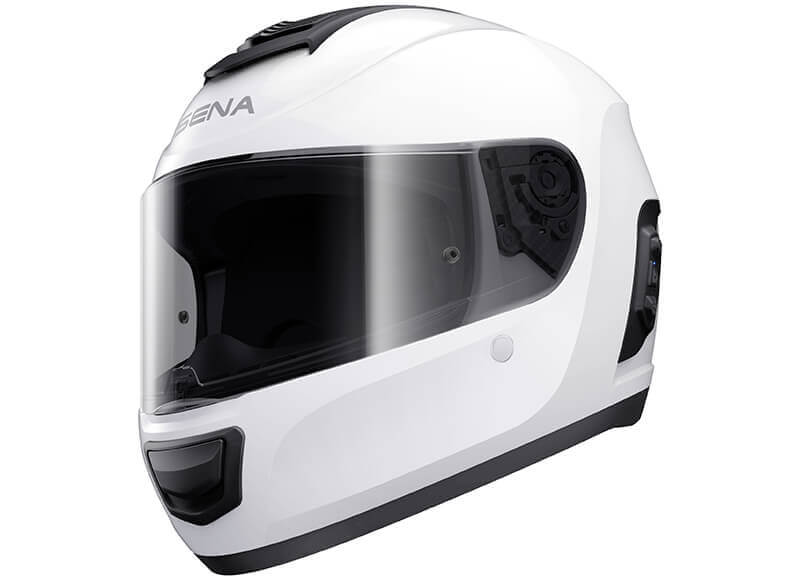with_helmet: (127, 4, 669, 580)
